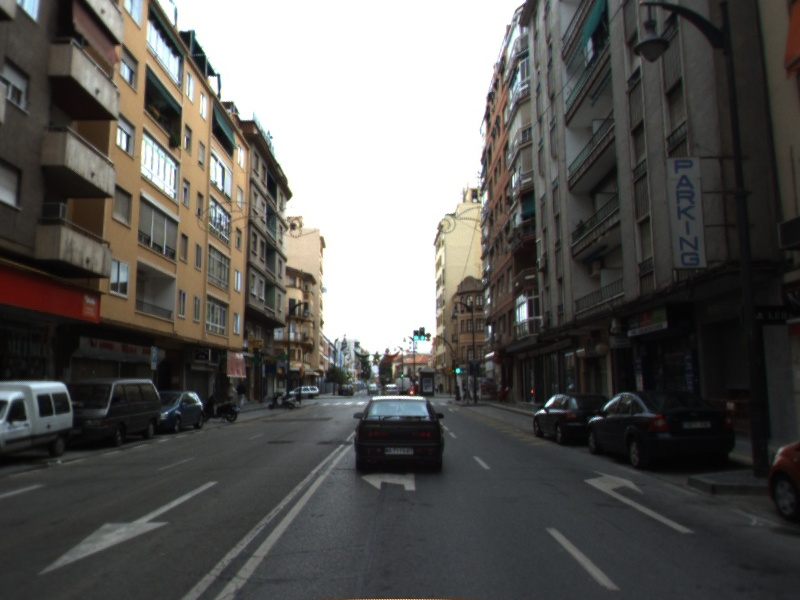RIGHT: (582, 469, 696, 535)
